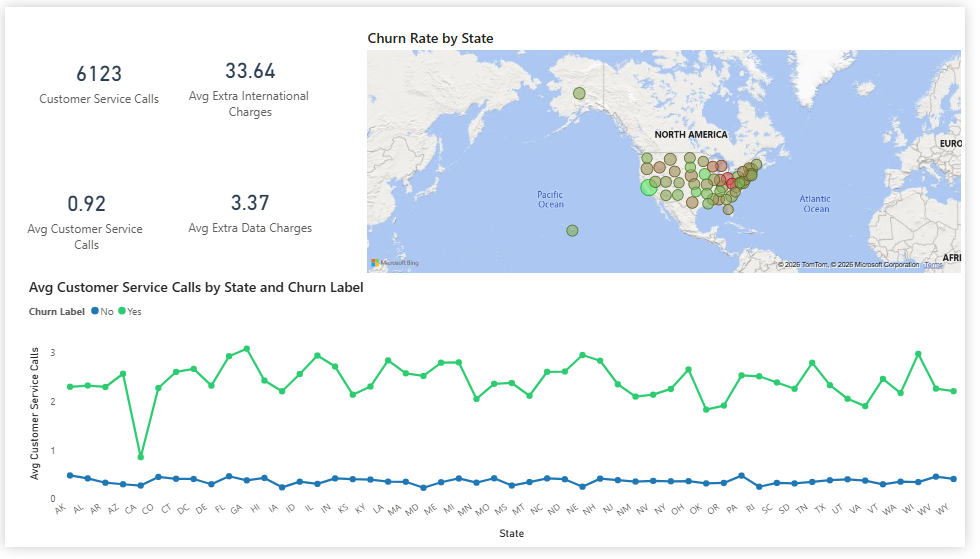

What the dashboard file says about the page in this screenshot:
{"tool":"powerbi","page":{"name":"Key Findings from Churn Analysis","canvas":[1280,720],"ordinal":5},"visuals":[{"type":"card","fields":{"Values":["Sum(Databel - Data.Customer Service Calls)"]},"box":[27.6,6.1,194.4,182.2],"z":0},{"type":"card","fields":{"Values":["Databel - Data.Avg Customer Service Calls"]},"box":[12.2,186.8,194.4,168.4],"z":1000},{"type":"card","fields":{"Values":["Databel - Data.Avg Extra International Charges"]},"box":[222,0,211.3,186.8],"z":2000},{"type":"card","fields":{"Values":["Databel - Data.Avg Extra Data Charges"]},"box":[209.8,165.4,234.3,209.8],"z":3000},{"type":"lineChart","fields":{"Category":["Databel - Data.State"],"Y":["Databel - Data.Avg Customer Service Calls"],"Series":["Databel - Data.Churn Label"]},"box":[27.2,359.9,1252.8,355],"z":4000},{"type":"map","fields":{"Category":["Databel - Data.State"],"Size":["Databel - Data.Churn Rate"]},"box":[477.7,27.6,802.3,332.2],"z":5000}]}

Visuals, with their boxes in screenshot pixels (x1, y1, x2, y2), scaled from the page's 1280x720 canvas onto the 980x559 screenshot:
card - Sum(Databel - Data.Customer Service Calls): Rect(21, 5, 170, 146)
card - Databel - Data.Avg Customer Service Calls: Rect(9, 145, 158, 276)
card - Databel - Data.Avg Extra International Charges: Rect(170, 0, 332, 145)
card - Databel - Data.Avg Extra Data Charges: Rect(161, 128, 340, 291)
lineChart - Databel - Data.State x Databel - Data.Avg Customer Service Calls: Rect(21, 279, 979, 555)
map - Databel - Data.State x Databel - Data.Churn Rate: Rect(366, 21, 979, 279)
